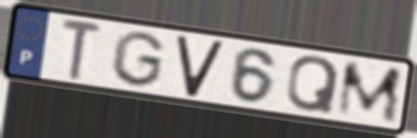6: (230, 46, 282, 105)
G: (107, 29, 168, 89)
M: (334, 60, 405, 126)
Q: (284, 53, 343, 116)
T: (59, 15, 104, 83)
V: (174, 34, 227, 99)
